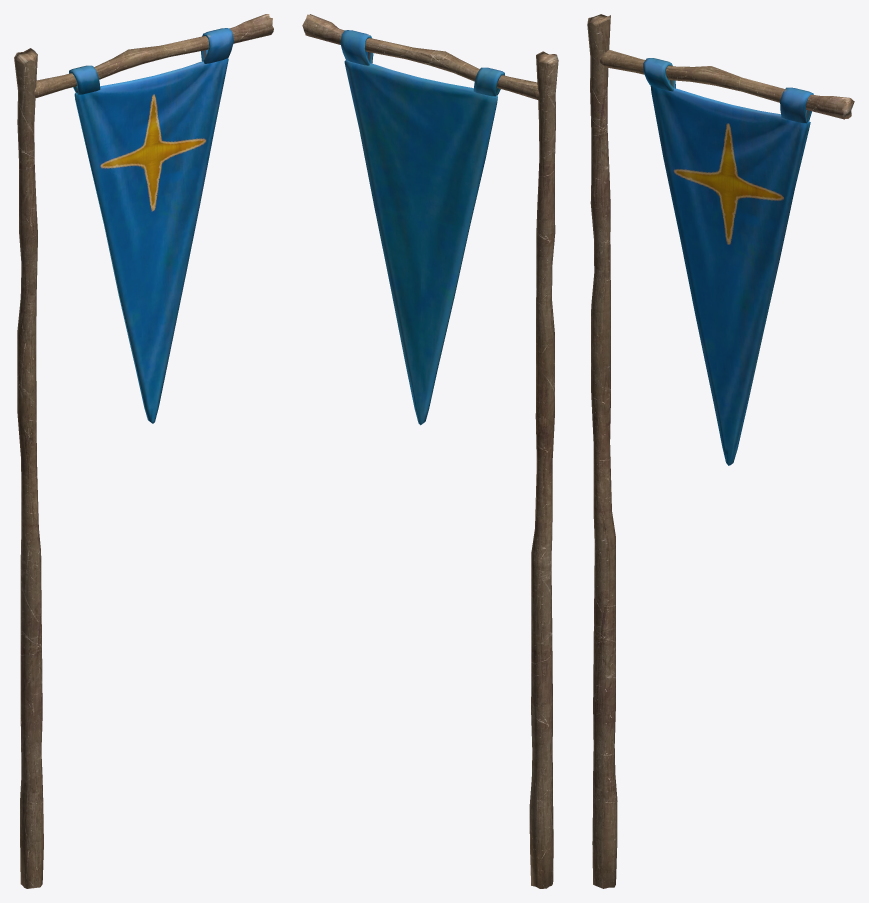
3 renders of one model, left to right at view 1: azimuth 30°, elevation 25°; view 2: azimuth 150°, elevation 25°; view 3: azimuth 330°, elevation 25°, orthographic. The views are drawn at different scales.
Visible parts, largest first — view 1: SM_Single_Banner_Saradomin_01v2_LOD0; view 2: SM_Single_Banner_Saradomin_01v2_LOD0; view 3: SM_Single_Banner_Saradomin_01v2_LOD0.
Part boxes in pixels (<box>): SM_Single_Banner_Saradomin_01v2_LOD0: <box>14,14,273,888</box>; SM_Single_Banner_Saradomin_01v2_LOD0: <box>302,14,558,888</box>; SM_Single_Banner_Saradomin_01v2_LOD0: <box>587,14,854,888</box>.
Size of the model in its own units: 1.39 by 4.39 by 0.1182.
2 materials, 2 textured.
